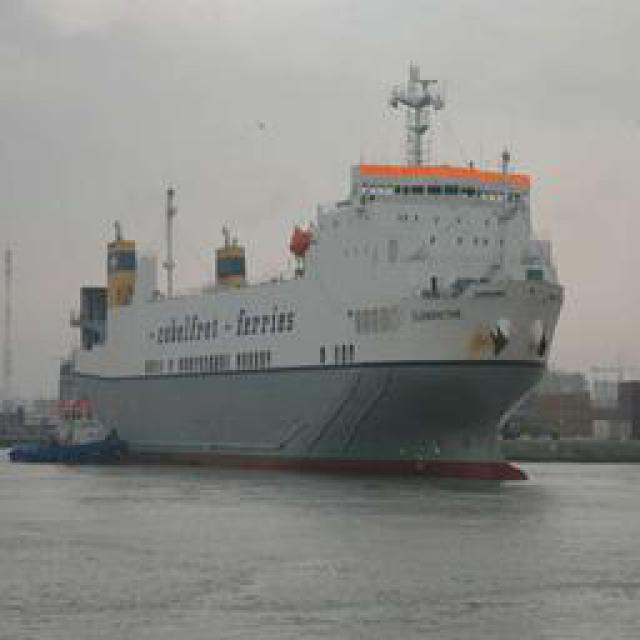Ship: (51, 143, 556, 451)
